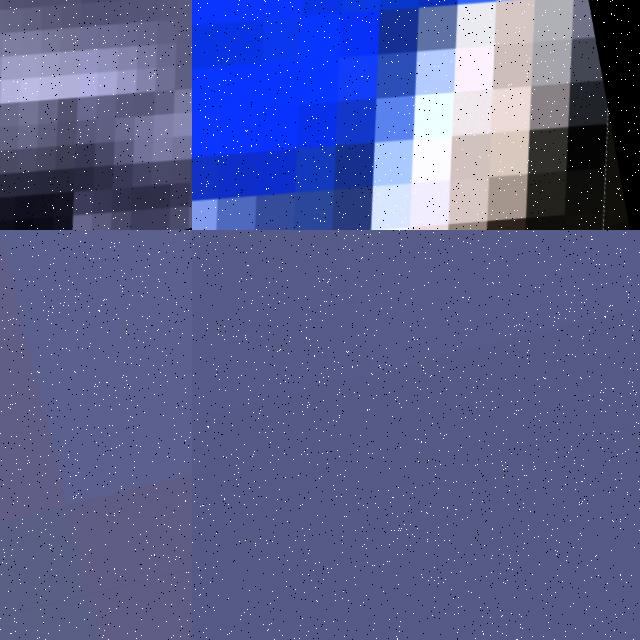drone: (192, 0, 640, 230), (0, 0, 192, 230)
